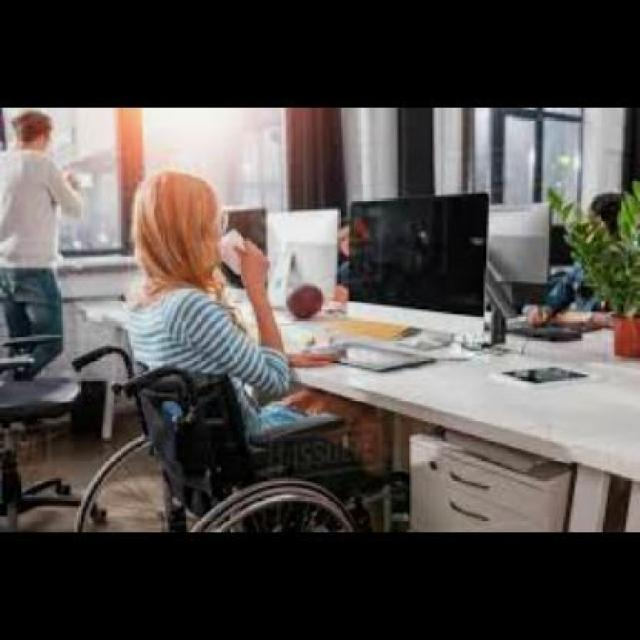wheelchairs: (55, 342, 380, 538)
